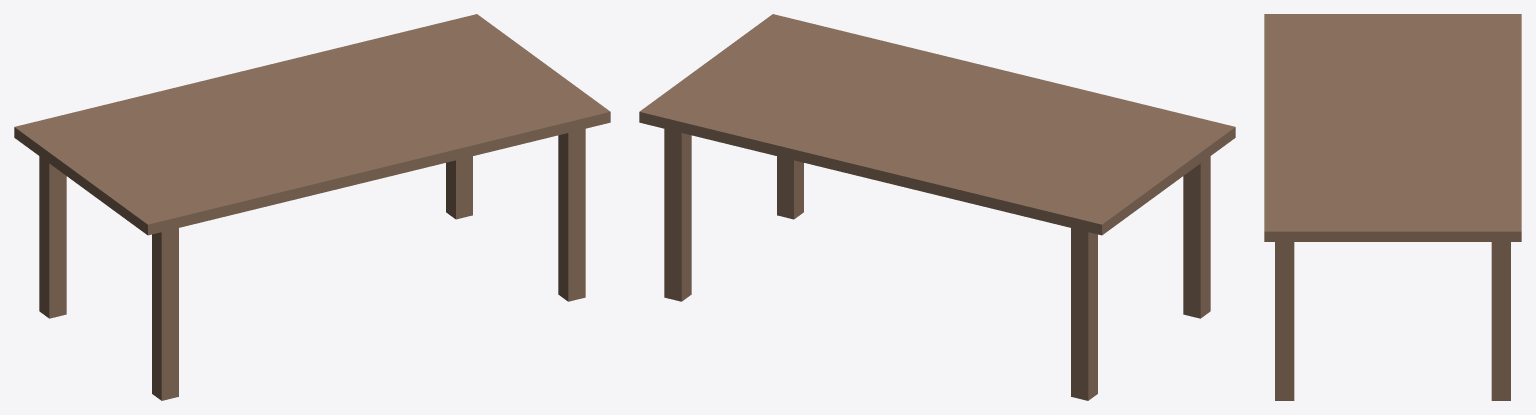
The model's file is Table 1.fbx.
The picture shows the model from 3 angles, left to right: view 1: azimuth 30°, elevation 25°; view 2: azimuth 150°, elevation 25°; view 3: azimuth 270°, elevation 25°; orthographic projection. The views are drawn at different scales.
Visible parts, largest first — view 1: Table_1; view 2: Table_1; view 3: Table_1.
Part boxes in pixels (x1,y1,x2,y2): Table_1: (14, 14, 610, 400); Table_1: (639, 14, 1235, 400); Table_1: (1264, 14, 1521, 400).
Size of the model in its own units: 218 by 83.52 by 109.
